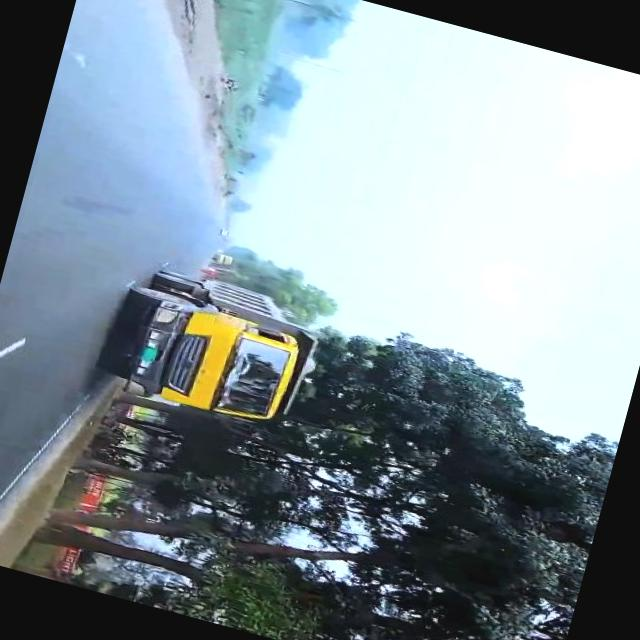car: (220, 226, 233, 236)
truck: (100, 258, 328, 438)
